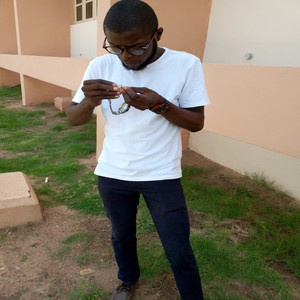Fulokoja_male_student: (87, 1, 205, 296)
